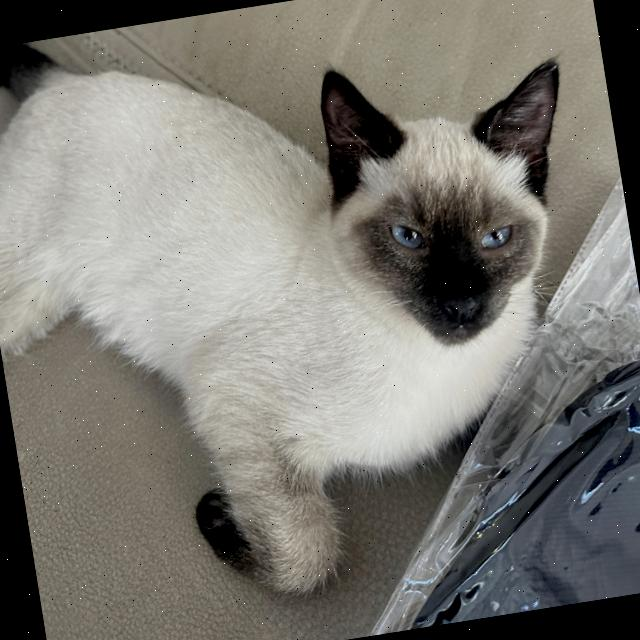siamese_cat: (261, 11, 632, 466)
